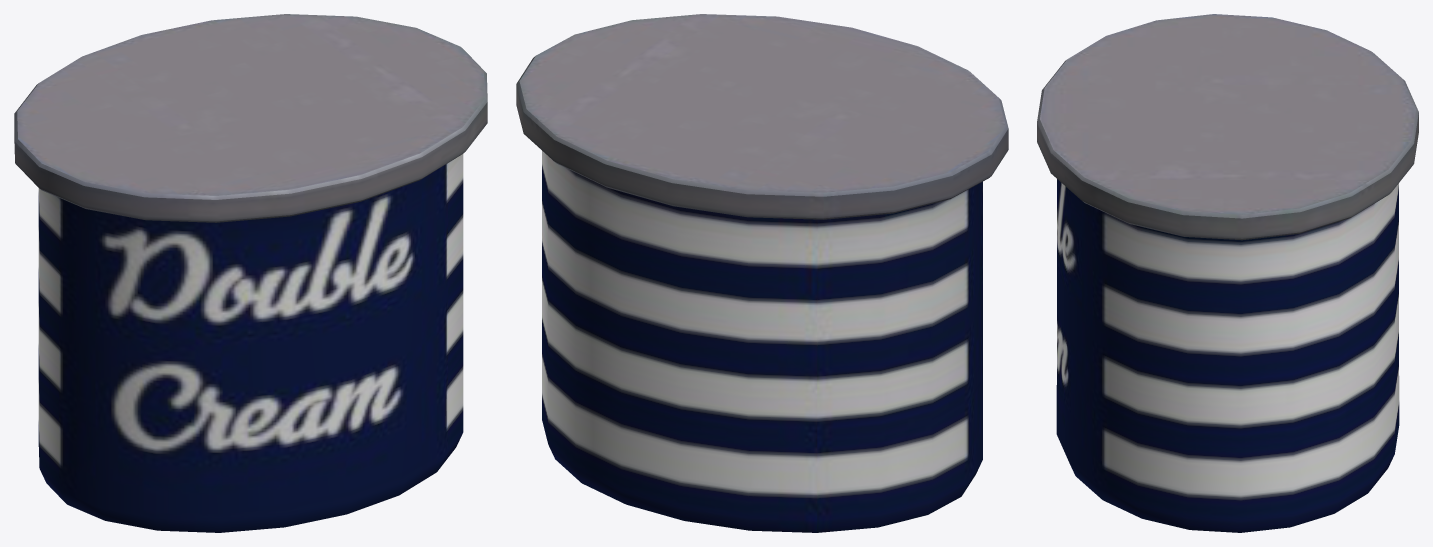
Rendered from doubleCream.glb.
3 views of the same model, side by side, from view 1: azimuth 30°, elevation 25°; view 2: azimuth 150°, elevation 25°; view 3: azimuth 270°, elevation 25° (orthographic). The views are drawn at different scales.
Parts seen in each view (by area): view 1: Cream; view 2: Cream; view 3: Cream.
Boxes of the visible parts, x1,y1,x2,y2 form: Cream: [14, 14, 487, 532]; Cream: [516, 14, 1008, 532]; Cream: [1037, 14, 1418, 532].
Size of the model in its own units: 0.1541 by 0.1189 by 0.1223.
Materials: 1 (1 with a texture image).
